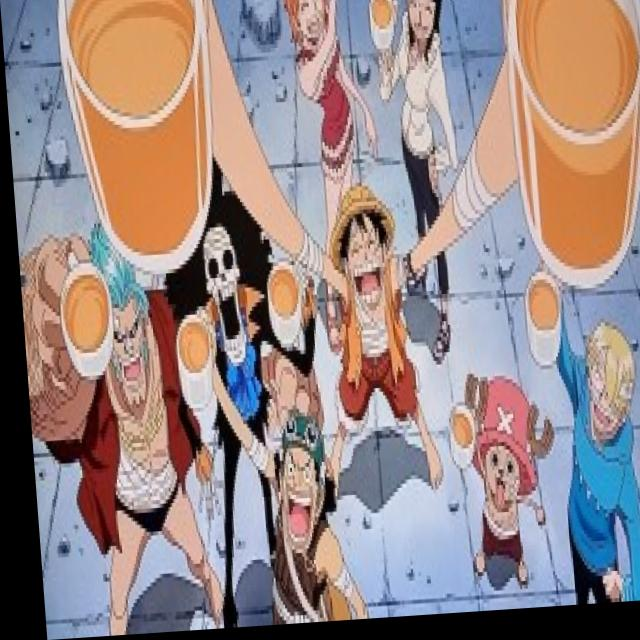Blook: (161, 187, 265, 373)
Chyopa: (435, 373, 556, 600)
Franky: (78, 219, 157, 428)
Luffy: (318, 187, 397, 315)
Nami: (278, 0, 347, 70)
NicoRobin: (386, 0, 448, 85)
Sangdi: (563, 321, 640, 452)
Usopp: (260, 404, 329, 557)
